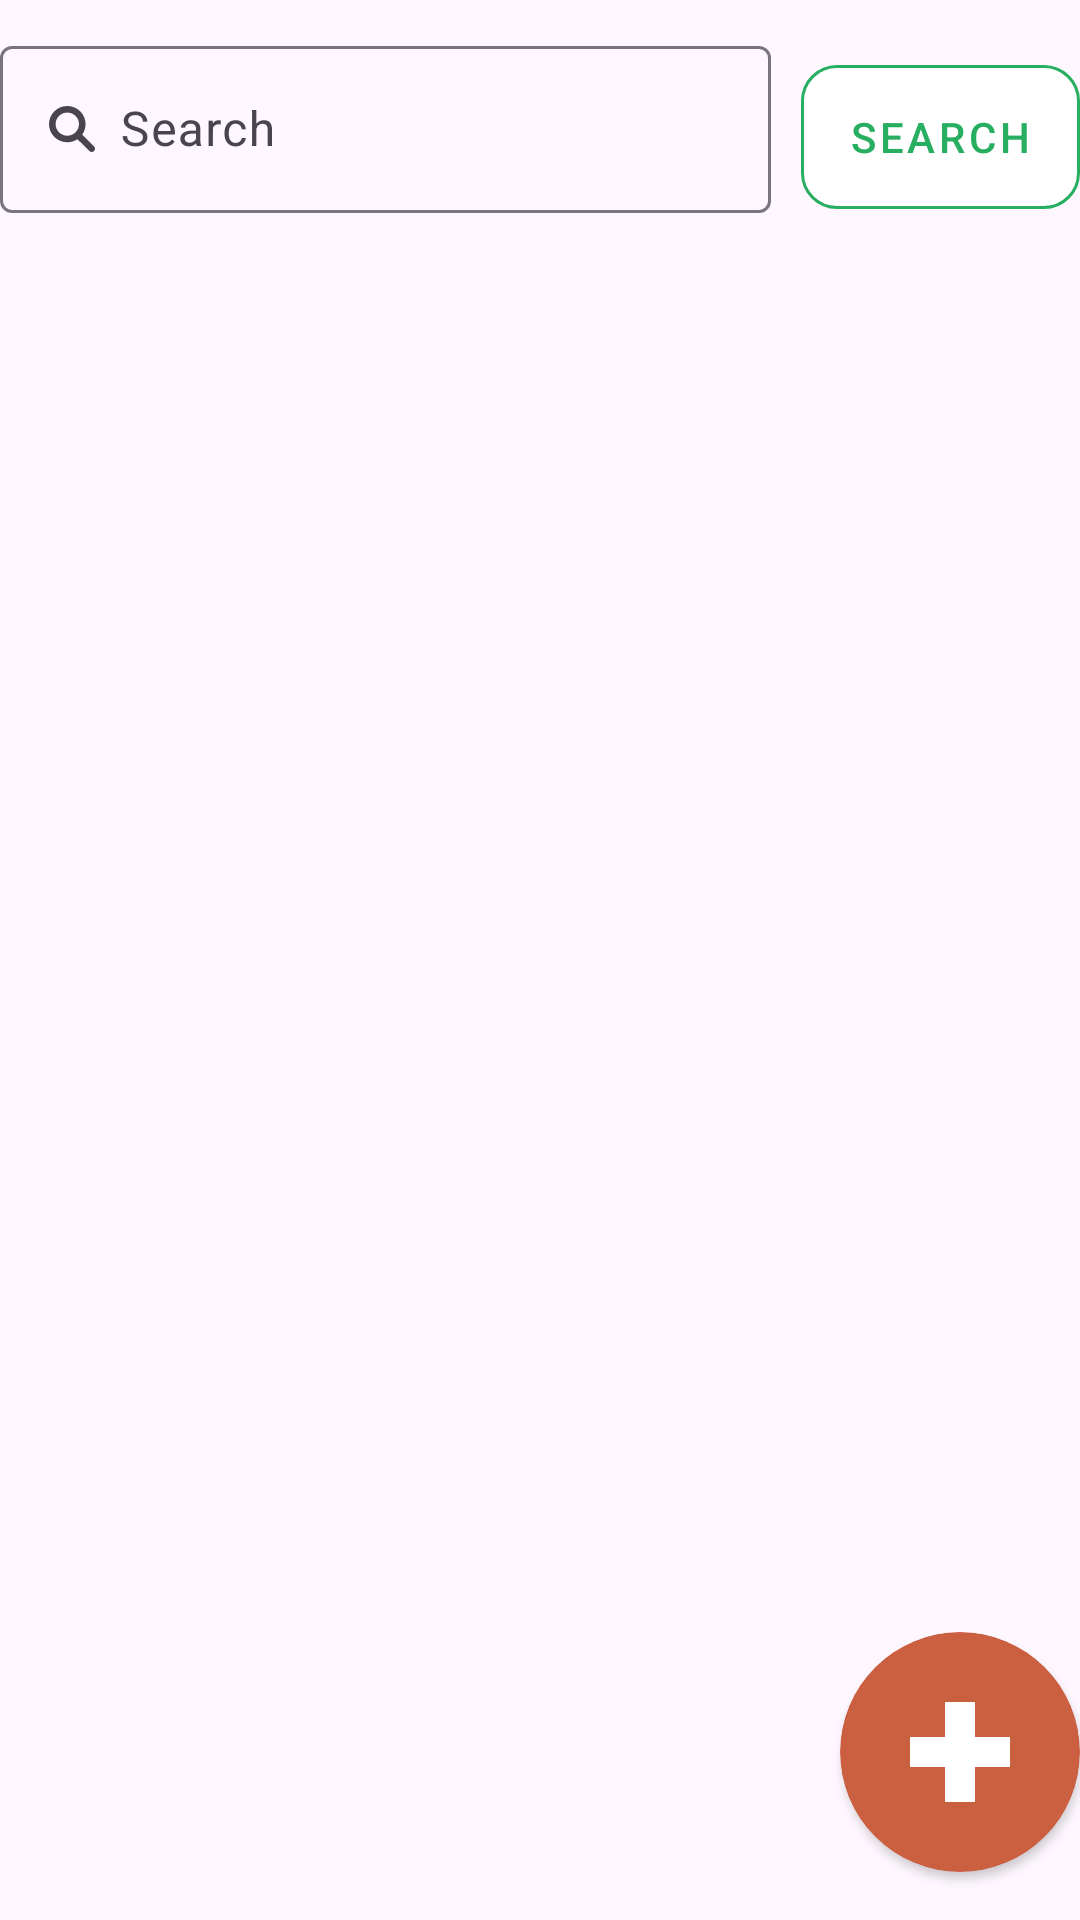

Icon bounding boxes for this 1080 x 1920 phone screenshot, format (x1, y1, x2, y2):
plus: (910, 1702, 1010, 1802)
